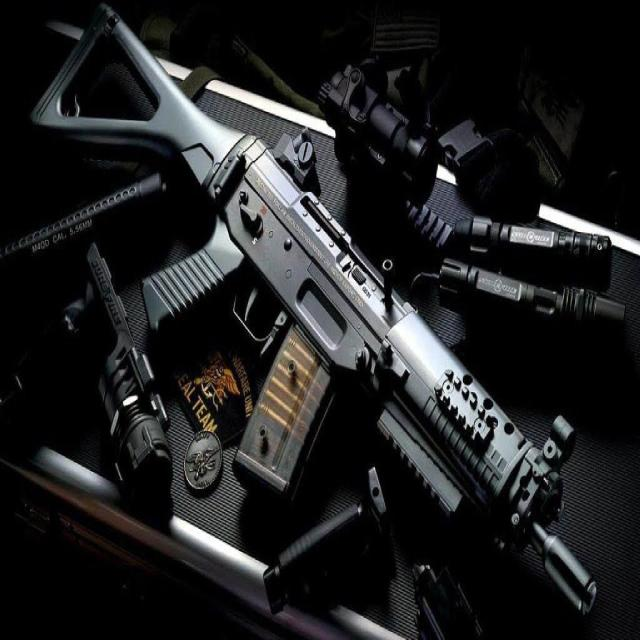Rifle: (30, 4, 598, 614)
